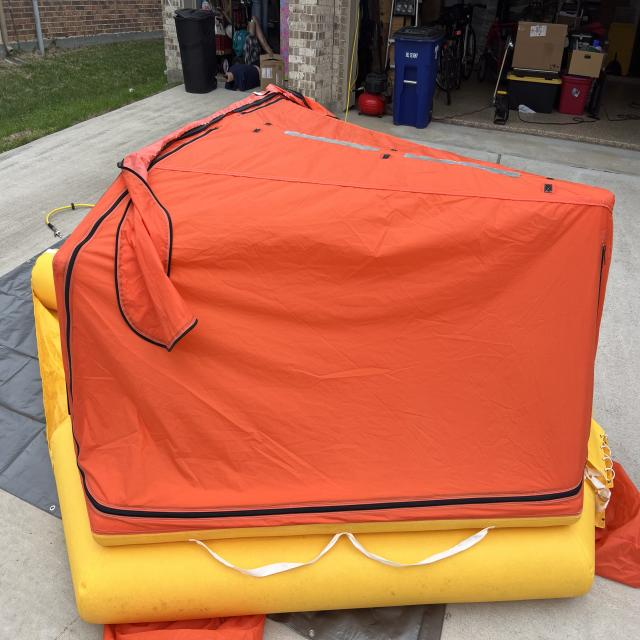Multi-person_life_raft: (31, 84, 640, 639)
